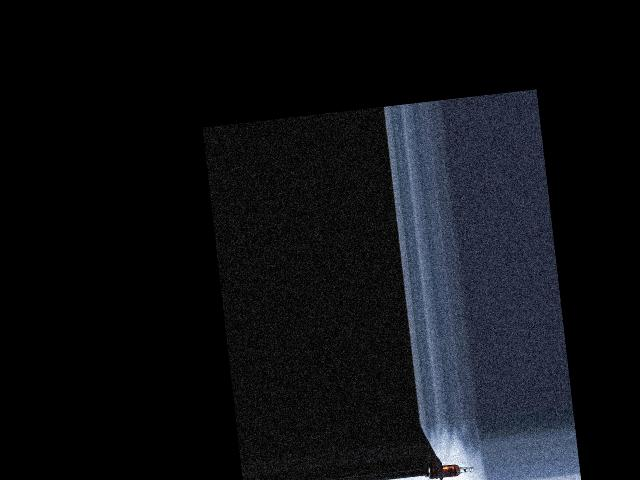beer: (428, 461, 474, 478)
